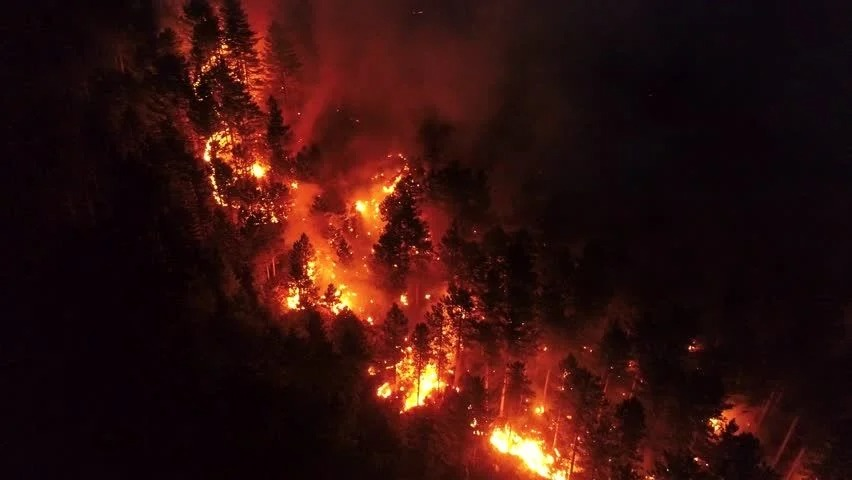forest_fire: (470, 419, 569, 479), (376, 346, 454, 412), (354, 166, 407, 219), (316, 283, 375, 313), (202, 131, 233, 164), (307, 254, 342, 282), (209, 168, 233, 206), (280, 287, 307, 310), (247, 161, 270, 180), (395, 292, 413, 308)
